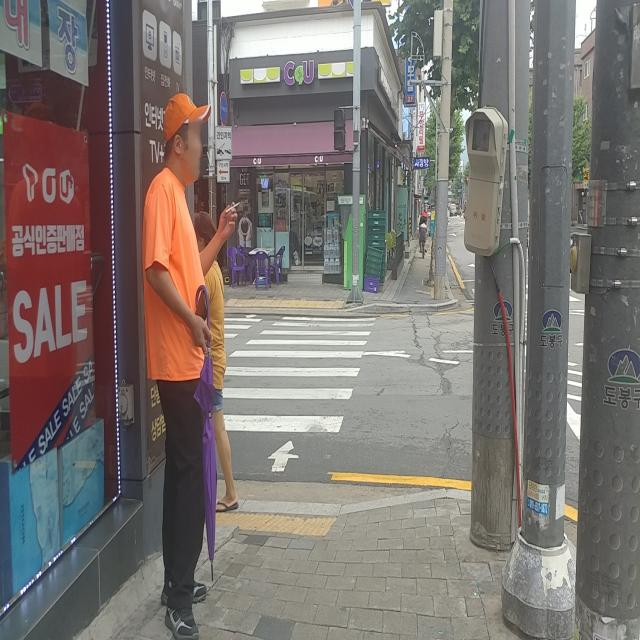횡단보도: (222, 312, 377, 474)
